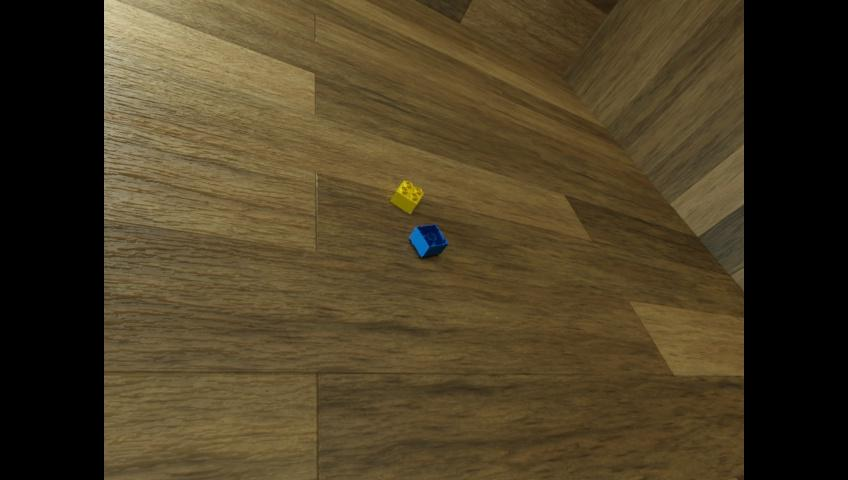2x2_blue: (409, 224, 447, 256)
2x2_yellow: (390, 180, 422, 213)
